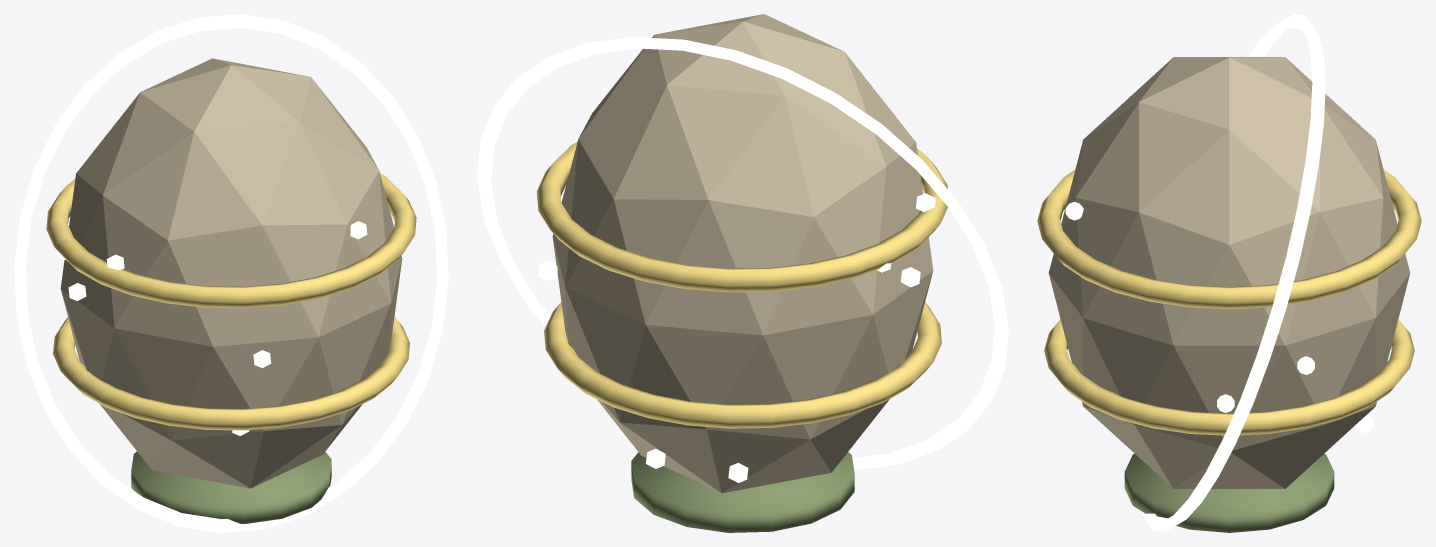
File: egg_prehistoric_10.glb
3 views of the same model, side by side, from view 1: azimuth 30°, elevation 25°; view 2: azimuth 150°, elevation 25°; view 3: azimuth 270°, elevation 25° (orthographic). The views are drawn at different scales.
Parts seen in each view (by area): view 1: ico; view 2: ico; view 3: ico.
Part boxes in pixels (x1,y1,x2,y2): ico: (14, 14, 448, 532); ico: (477, 14, 1008, 532); ico: (1037, 14, 1421, 532).
Bounding box in the file's own units: 1.12 × 1.06 × 0.8078.
